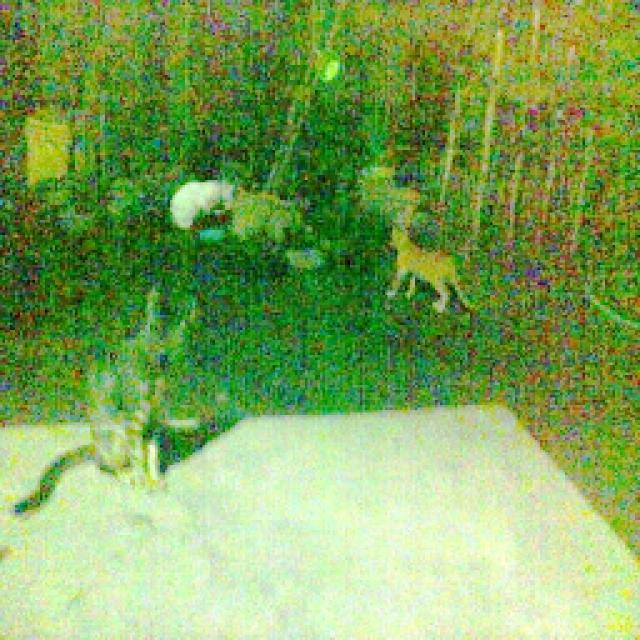cat: (72, 336, 180, 504), (379, 230, 483, 322), (160, 172, 237, 230)
